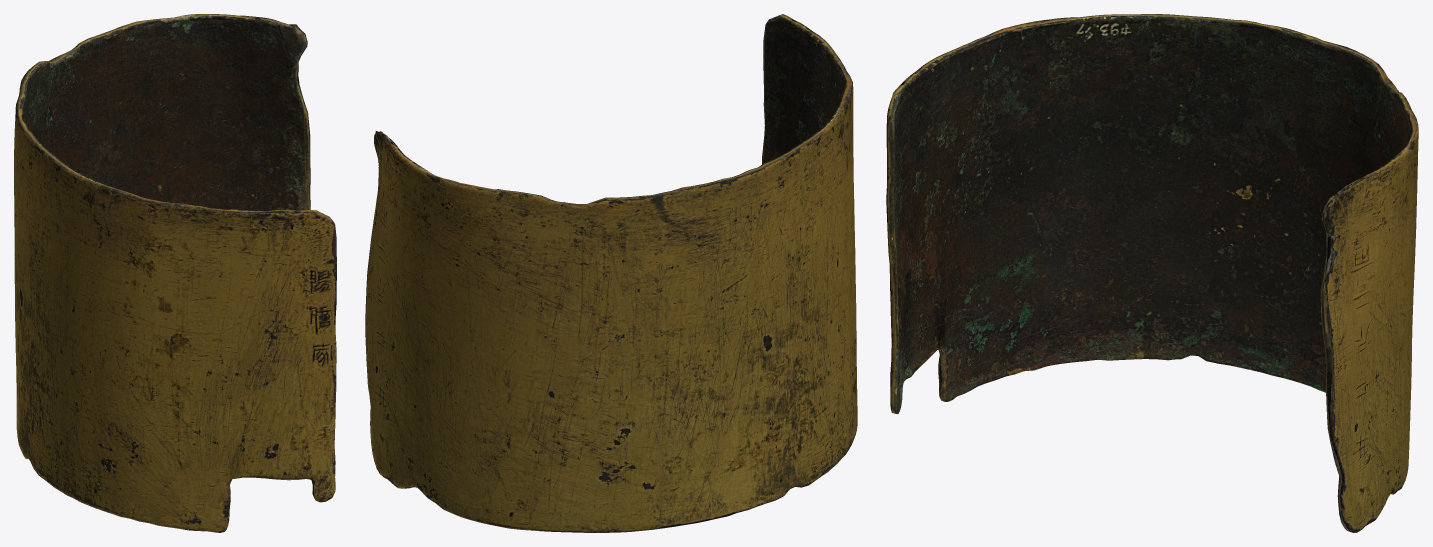
The model's file is lzhao.FBX.
The picture shows the model from 3 angles, left to right: view 1: azimuth 30°, elevation 25°; view 2: azimuth 150°, elevation 25°; view 3: azimuth 270°, elevation 25°; orthographic projection. The views are drawn at different scales.
Visible parts, largest first — view 1: Group7005; view 2: Group7005; view 3: Group7005.
Part boxes in pixels (bbox=[...]): Group7005: bbox=[14, 14, 336, 532]; Group7005: bbox=[365, 14, 857, 532]; Group7005: bbox=[886, 14, 1418, 532].
Size of the model in its own units: 630 by 564 by 768.
1 material, 1 textured.
